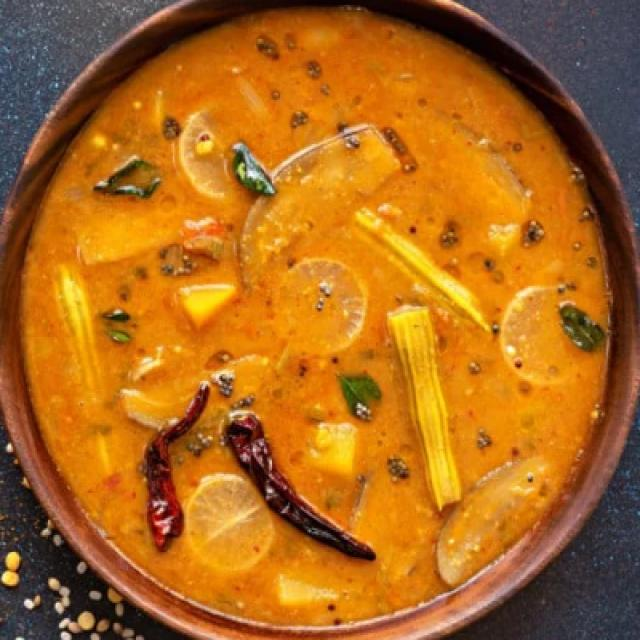sambar: (54, 28, 620, 640)
